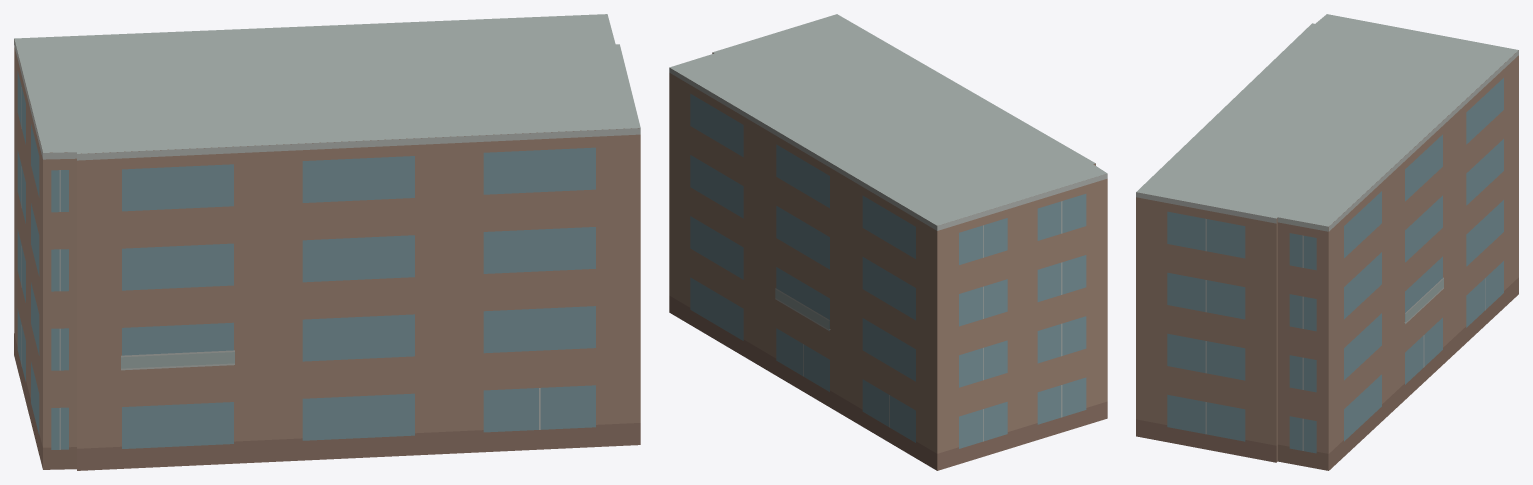
The model's file is survey-upis-32992992.glb.
3 views of the same model, side by side, from view 1: azimuth 30°, elevation 25°; view 2: azimuth 150°, elevation 25°; view 3: azimuth 270°, elevation 25° (orthographic). The views are drawn at different scales.
Visible parts, largest first — view 1: survey-upis-32992992.tmp; view 2: survey-upis-32992992.tmp; view 3: survey-upis-32992992.tmp.
Part boxes in pixels (x1,y1,x2,y2): survey-upis-32992992.tmp: (14,14,640,470); survey-upis-32992992.tmp: (669,14,1107,470); survey-upis-32992992.tmp: (1136,14,1518,470).
Size of the model in its own units: 21.86 by 11.7 by 16.63.
